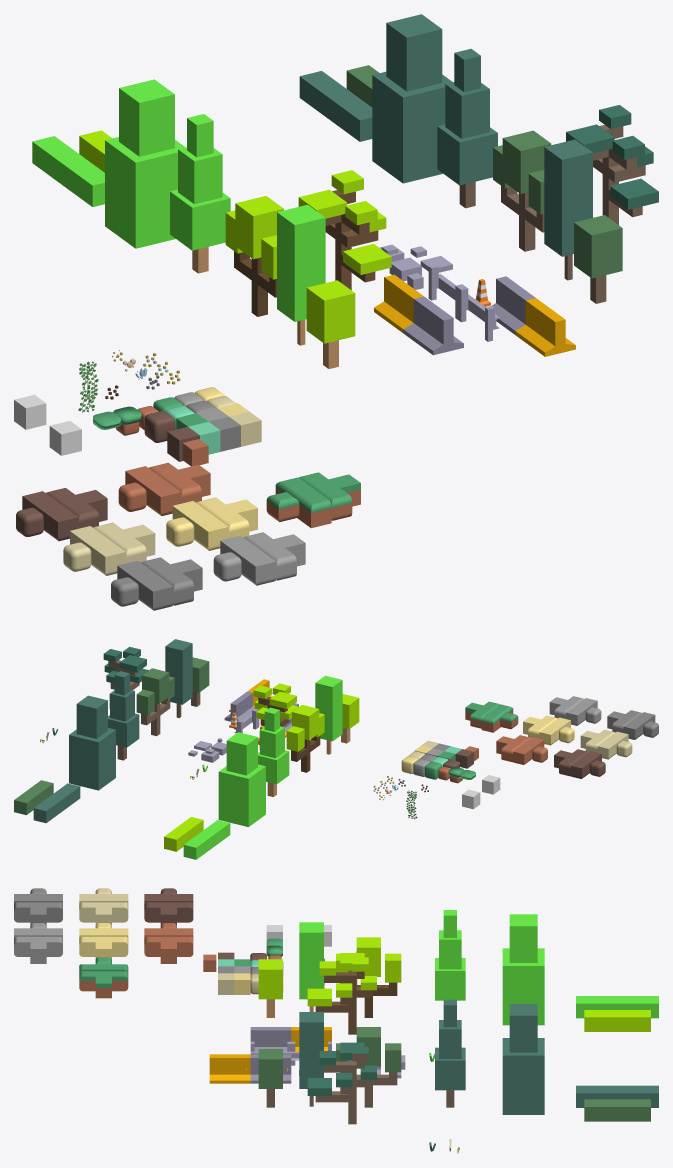
3 views of the same model, one above another, from view 1: azimuth 30°, elevation 25°; view 2: azimuth 150°, elevation 25°; view 3: azimuth 270°, elevation 25° (orthographic). The views are drawn at different scales.
Visible parts, largest first — view 1: Tree.007, Tree.004, Tree.008, Tree.003, Tree.005, Tree.006, Tree.010, Tree.002, Tree.009, Tree, Tree.001, Tree.011 (+14 smaller); view 2: Tree.004, Tree.007, Tree.008, Tree.003, Tree.009, Tree, Tree.010, Tree.002, Tree.005, Tree.006, Bush.003, Bush.001 (+5 smaller); view 3: Tree.007, Tree.004, Tree.006, Tree.005, Tree.008, Tree.003, Tree.009, Tree, Tree.002, Tree.010, Bush.002, Bush (+7 smaller).
Part boxes in pixels (box(x1,y1,x2,y2)): Tree.007: box(372, 14, 452, 183); Tree.004: box(105, 79, 185, 248); Tree.008: box(437, 48, 497, 208); Tree.003: box(170, 114, 230, 273); Tree.005: box(298, 170, 391, 290); Tree.006: box(566, 105, 658, 224); Tree.010: box(544, 139, 592, 280); Tree.002: box(277, 204, 325, 345); Tree.009: box(493, 130, 551, 251); Tree: box(225, 196, 283, 316); Tree.001: box(306, 280, 355, 368); Tree.011: box(574, 215, 622, 303); Tree.004: box(218, 732, 265, 826); Tree.007: box(69, 695, 115, 790); Tree.008: box(108, 671, 139, 760); Tree.003: box(258, 707, 289, 796); Tree.009: box(136, 668, 174, 736); Tree: box(286, 705, 324, 772); Tree.010: box(165, 639, 192, 717); Tree.002: box(315, 675, 342, 754); Tree.005: box(253, 683, 298, 726); Tree.006: box(103, 646, 148, 690); Bush.003: box(33, 783, 80, 823); Bush.001: box(183, 820, 230, 859); Tree.007: box(502, 1004, 544, 1114); Tree.004: box(502, 914, 544, 1025); Tree.006: box(307, 1042, 376, 1124); Tree.005: box(307, 953, 376, 1034); Tree.008: box(435, 999, 465, 1107); Tree.003: box(435, 910, 465, 1000); Tree.009: box(336, 1027, 401, 1107); Tree: box(336, 937, 401, 1017); Tree.002: box(299, 922, 323, 1011); Tree.010: box(299, 1012, 323, 1106); Bush.002: box(584, 1099, 650, 1121); Bush: box(584, 1010, 650, 1031).
Bounding box in the file's own units: 77.21 × 18.5 × 79.09.
23 materials, 2 textured.
